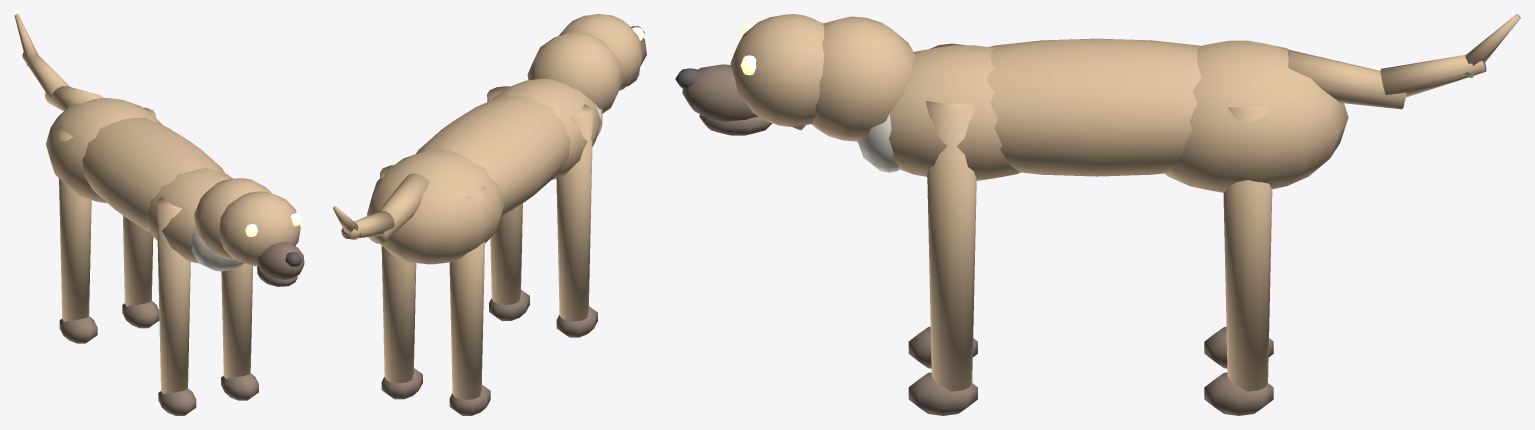
Rendered from animal_dog.glb.
3 views of the same model, side by side, from view 1: azimuth 30°, elevation 25°; view 2: azimuth 150°, elevation 25°; view 3: azimuth 270°, elevation 25° (orthographic). The views are drawn at different scales.
Parts seen in each view (by area): view 1: animal_dog_body, animal_dog_leg_FL, animal_dog_haunch, animal_dog_head, animal_dog_leg_BL, animal_dog_leg_FR, animal_dog_chest, animal_dog_leg_BR, animal_dog_neck, animal_dog_muzzle, animal_dog_chest_bib, animal_dog_tail1 (+7 smaller); view 2: animal_dog_haunch, animal_dog_body, animal_dog_leg_FL, animal_dog_leg_BL, animal_dog_neck, animal_dog_leg_BR, animal_dog_chest, animal_dog_leg_FR, animal_dog_head, animal_dog_tail0, animal_dog_tail1, animal_dog_paw_BL (+4 smaller); view 3: animal_dog_body, animal_dog_haunch, animal_dog_leg_FR, animal_dog_chest, animal_dog_leg_BR, animal_dog_neck, animal_dog_head, animal_dog_tail0, animal_dog_muzzle, animal_dog_tail1, animal_dog_paw_BR, animal_dog_paw_FR (+5 smaller).
Part boxes in pixels (box(x1,y1,x2,y2)): animal_dog_body: box(82, 117, 225, 231); animal_dog_leg_FL: box(157, 197, 190, 394); animal_dog_haunch: box(46, 98, 162, 203); animal_dog_head: box(218, 191, 300, 266); animal_dog_leg_BL: box(58, 125, 91, 321); animal_dog_leg_FR: box(221, 263, 252, 378); animal_dog_chest: box(146, 167, 232, 263); animal_dog_leg_BR: box(123, 107, 155, 306); animal_dog_neck: box(194, 178, 271, 260); animal_dog_muzzle: box(257, 241, 304, 279); animal_dog_chest_bib: box(191, 229, 243, 271); animal_dog_tail1: box(22, 52, 69, 96); animal_dog_haunch: box(367, 149, 504, 264); animal_dog_body: box(416, 95, 570, 216); animal_dog_leg_FL: box(556, 104, 593, 321); animal_dog_leg_BL: box(449, 186, 486, 399); animal_dog_neck: box(527, 32, 623, 113); animal_dog_leg_BR: box(380, 165, 416, 383); animal_dog_chest: box(491, 78, 601, 179); animal_dog_leg_FR: box(487, 86, 522, 304); animal_dog_head: box(559, 14, 642, 90); animal_dog_tail0: box(368, 173, 429, 243); animal_dog_tail1: box(341, 211, 394, 238); animal_dog_paw_BL: box(449, 384, 490, 415); animal_dog_body: box(987, 38, 1201, 176); animal_dog_haunch: box(1164, 40, 1348, 192); animal_dog_leg_FR: box(926, 101, 976, 391); animal_dog_chest: box(888, 45, 1020, 180); animal_dog_leg_BR: box(1223, 105, 1272, 391); animal_dog_neck: box(811, 16, 916, 141); animal_dog_head: box(730, 14, 824, 126); animal_dog_tail0: box(1288, 50, 1406, 109); animal_dog_muzzle: box(682, 64, 757, 121); animal_dog_tail1: box(1380, 55, 1486, 97); animal_dog_paw_BR: box(1204, 372, 1273, 415); animal_dog_paw_FR: box(908, 372, 977, 415).
Bounding box in the file's own units: 0.2827 × 0.6584 × 1.34.
